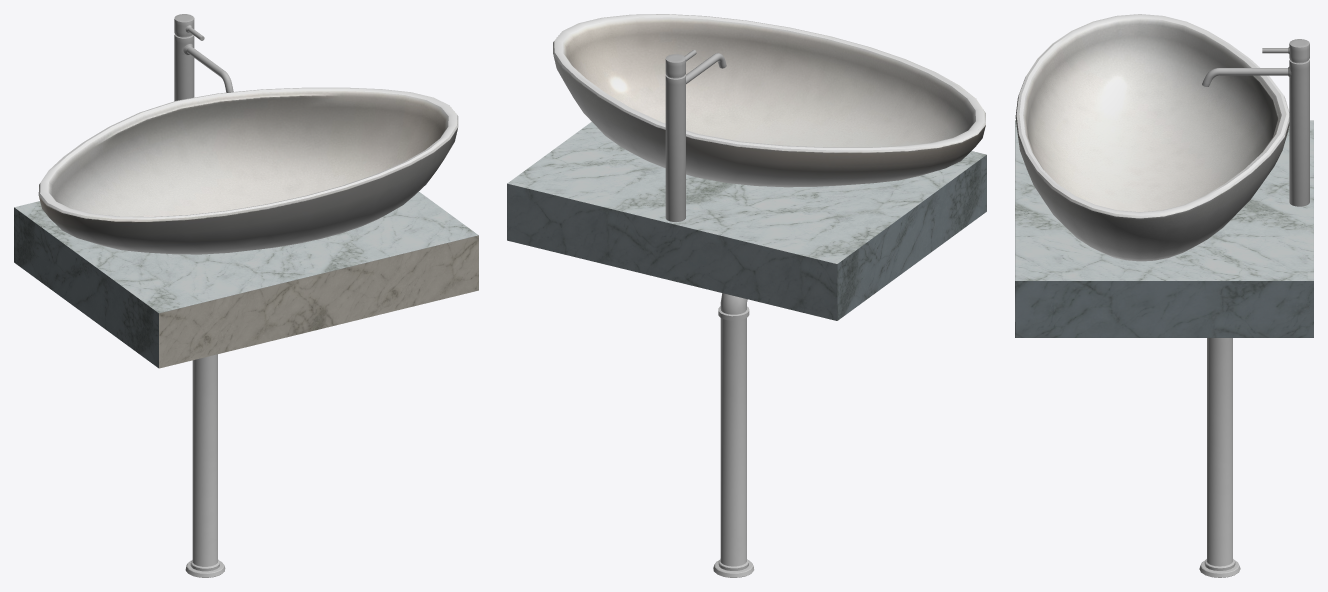
File: premium sink 1.fbx
3 views of the same model, side by side, from view 1: azimuth 30°, elevation 25°; view 2: azimuth 150°, elevation 25°; view 3: azimuth 270°, elevation 25° (orthographic). The views are drawn at different scales.
Visible parts, largest first — view 1: premium sink; view 2: premium sink; view 3: premium sink.
Part boxes in pixels (<box>): premium sink: <box>14,14,478,577</box>; premium sink: <box>507,14,986,577</box>; premium sink: <box>1015,14,1313,577</box>.
Size of the model in its own units: 0.9422 by 1.16 by 0.5853.
Materials: 1 (1 with a texture image).
